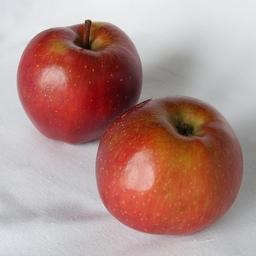apple: (94, 98, 242, 238), (15, 23, 144, 152)
